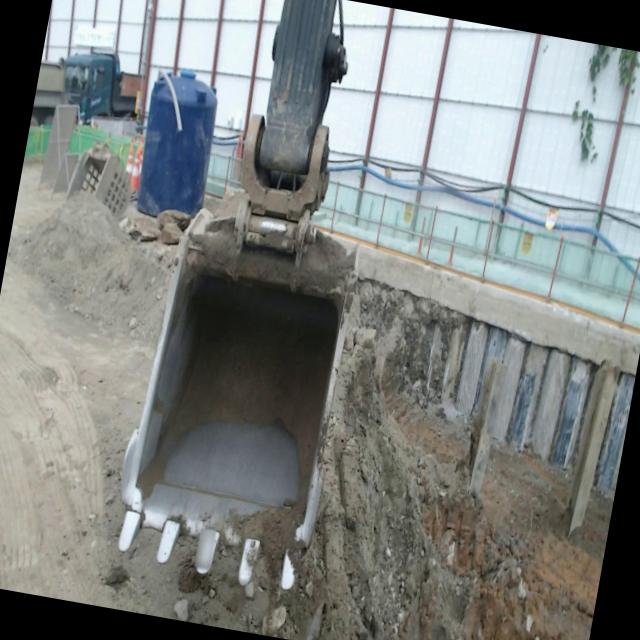red-sand: (304, 281, 613, 640)
white-sand: (0, 256, 160, 617), (10, 192, 170, 344)
